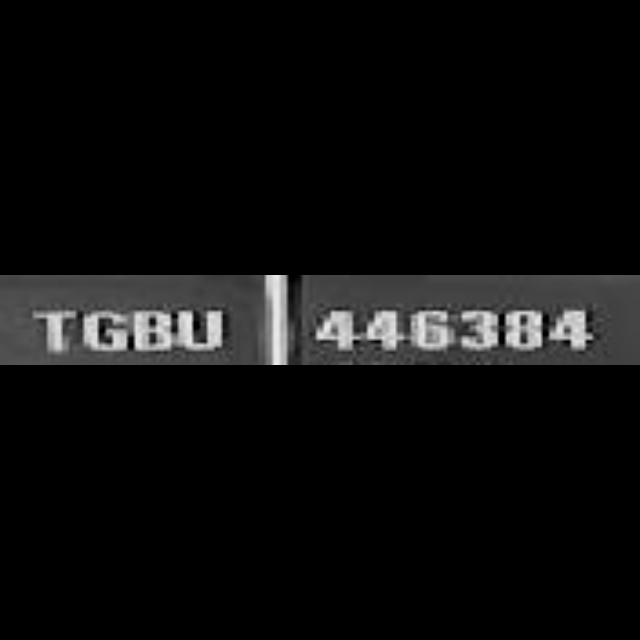3: (456, 304, 502, 356)
4: (314, 304, 364, 356), (546, 305, 598, 355), (363, 300, 409, 356)
6: (408, 304, 457, 354)
8: (502, 304, 548, 356)
b: (131, 304, 177, 360)
g: (80, 303, 132, 355)
t: (30, 305, 80, 355)
u: (175, 306, 228, 356)
